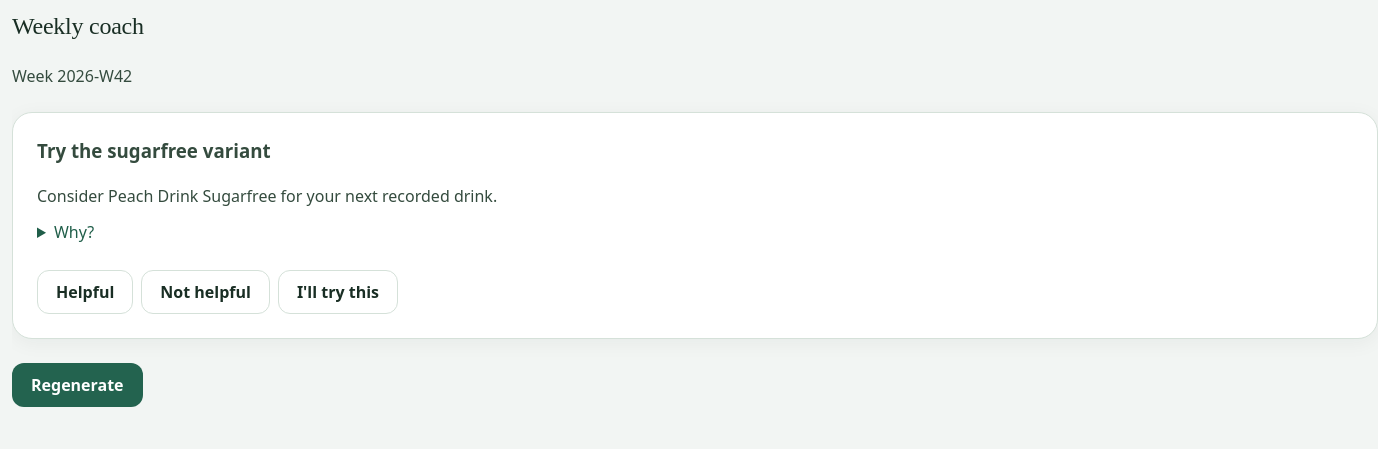
feedback_posts_value Helpful
Click the button "Helpful" at (85, 292), box [37,270,133,314]
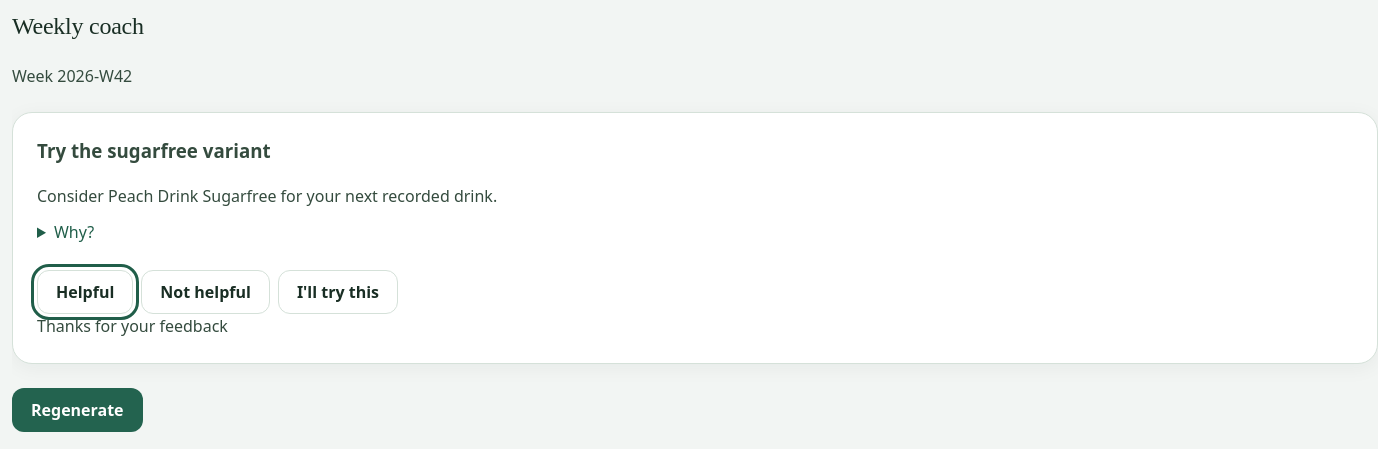
Result: the text "Thanks for your feedback" is shown at [37,315,228,337]
